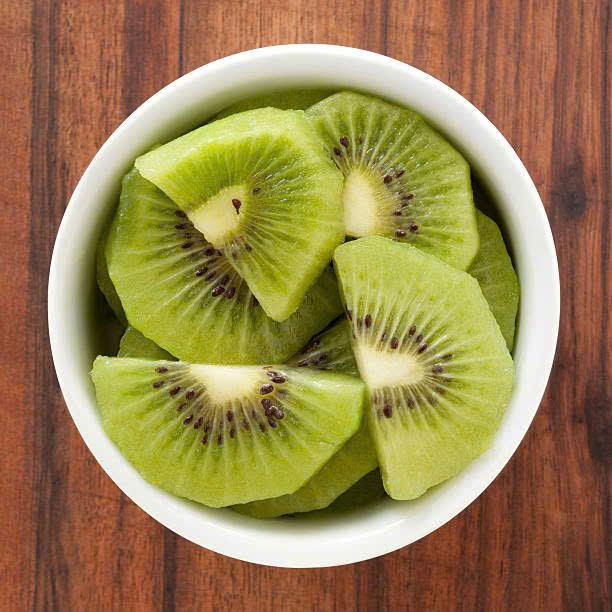kiwi: (66, 340, 395, 516), (314, 256, 519, 493), (91, 164, 283, 384), (120, 151, 358, 292), (321, 90, 466, 257)
